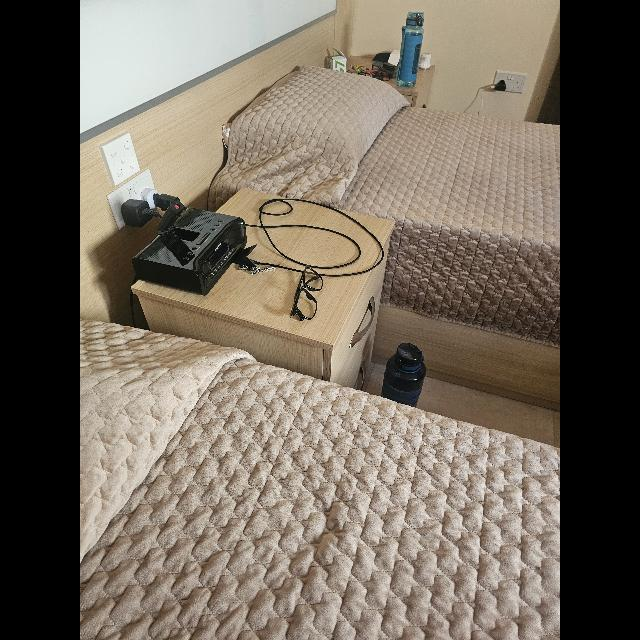glasses: (290, 266, 324, 322)
